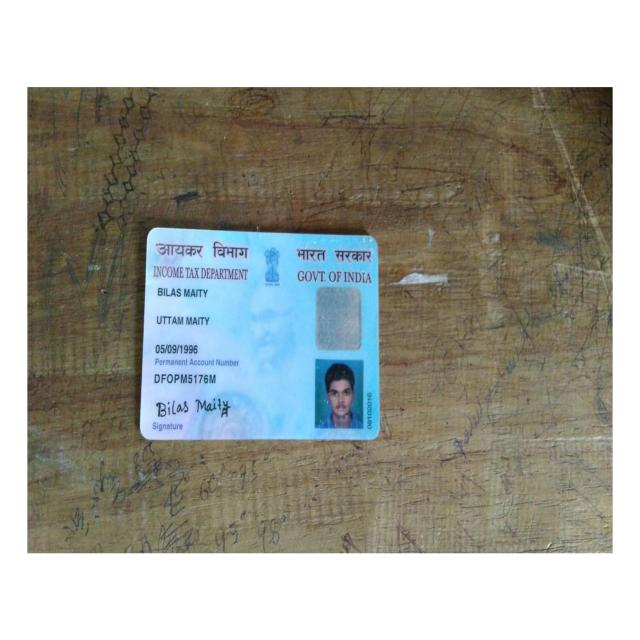pan_card: (142, 228, 380, 439)
